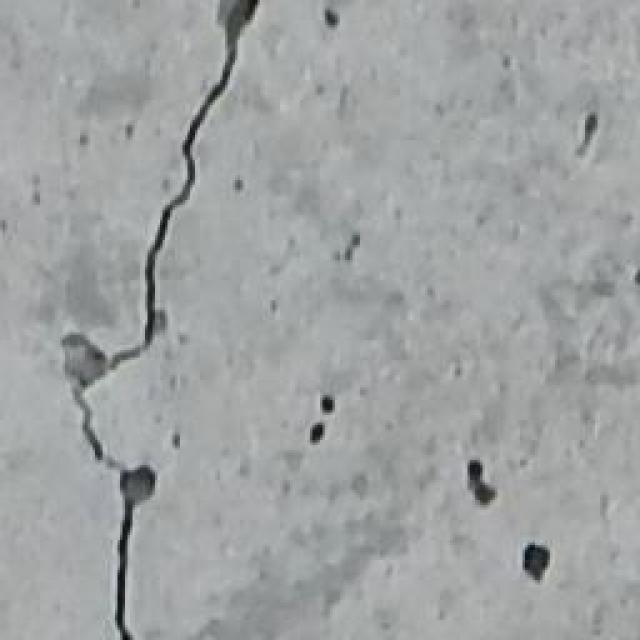concrete-crack: (65, 1, 260, 640), (467, 456, 497, 504), (522, 546, 550, 584), (309, 423, 326, 442), (321, 397, 338, 413)
